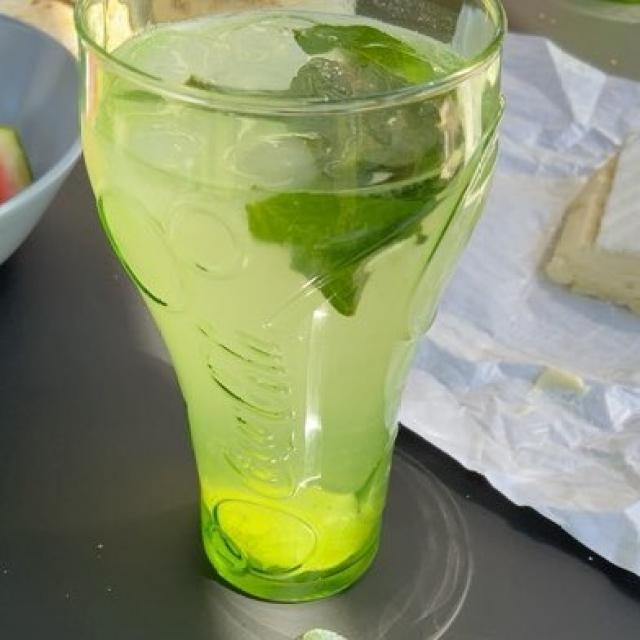water: (83, 22, 486, 561)
